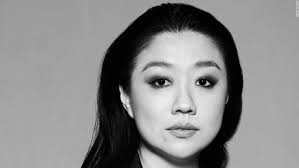person: (101, 2, 244, 163)
